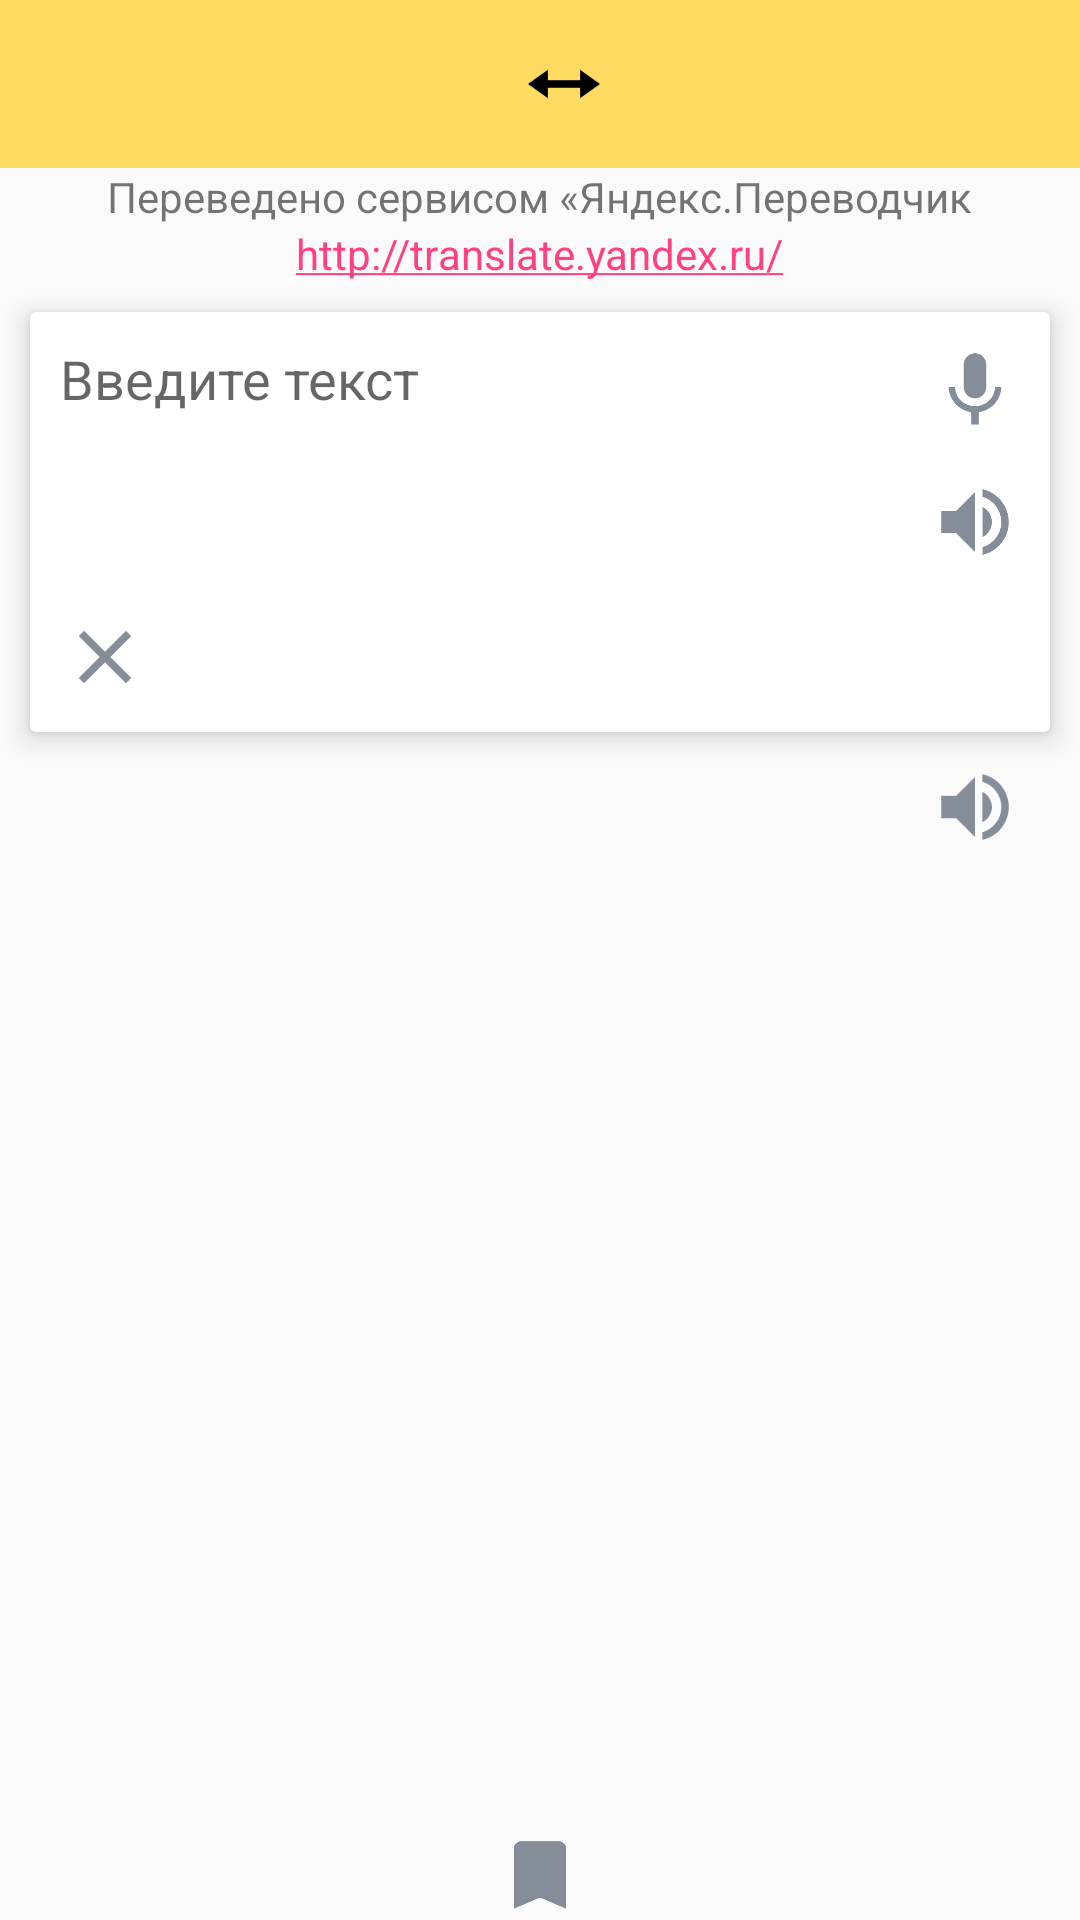

Where to tap for icons on this 1080w x 1920h app screen, as [x,y]:
clear: [105,657]
compare arrows: [564,84]
keyboard voice: [975,389]
not favorite: [540,1875]
volume up: [975,522], [975,807]
